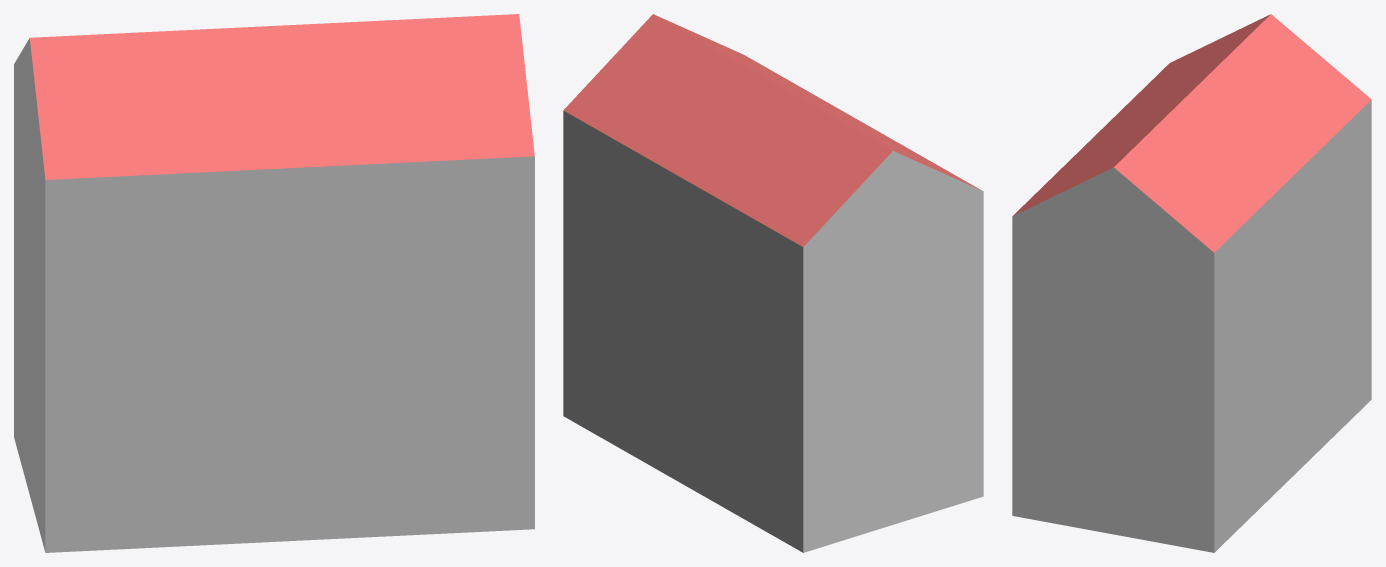
File: DEBY_LOD2_4907027.gltf
3 renders of one model, left to right at view 1: azimuth 30°, elevation 25°; view 2: azimuth 150°, elevation 25°; view 3: azimuth 270°, elevation 25°, orthographic. The views are drawn at different scales.
Visible parts, largest first — view 1: Z_UP; view 2: Z_UP; view 3: Z_UP.
Boxes of the visible parts, left/top/right/bottom form: Z_UP: left=14, top=14, right=534, bottom=552; Z_UP: left=563, top=14, right=983, bottom=552; Z_UP: left=1012, top=14, right=1371, bottom=552.
Size of the model in its own units: 24.82 by 22.31 by 19.8.
